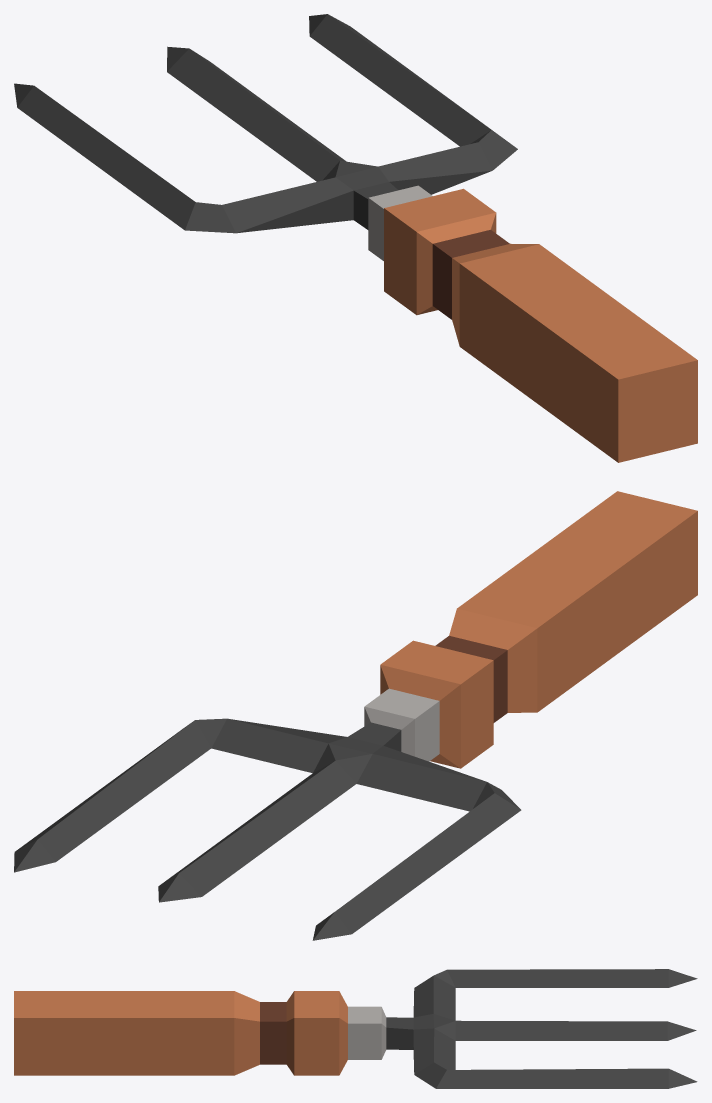
File: SM_Item_Garden_Fork_01.fbx
3 views of the same model, one above another, from view 1: azimuth 30°, elevation 25°; view 2: azimuth 150°, elevation 25°; view 3: azimuth 270°, elevation 25° (orthographic). The views are drawn at different scales.
Parts seen in each view (by area): view 1: SM_Item_Garden_Fork_01; view 2: SM_Item_Garden_Fork_01; view 3: SM_Item_Garden_Fork_01.
Part boxes in pixels (bbox=[...]): SM_Item_Garden_Fork_01: bbox=[14, 14, 697, 462]; SM_Item_Garden_Fork_01: bbox=[14, 491, 697, 940]; SM_Item_Garden_Fork_01: bbox=[14, 969, 697, 1088].
Bounding box in the file's own units: 14.36 × 3.43 × 36.75.
